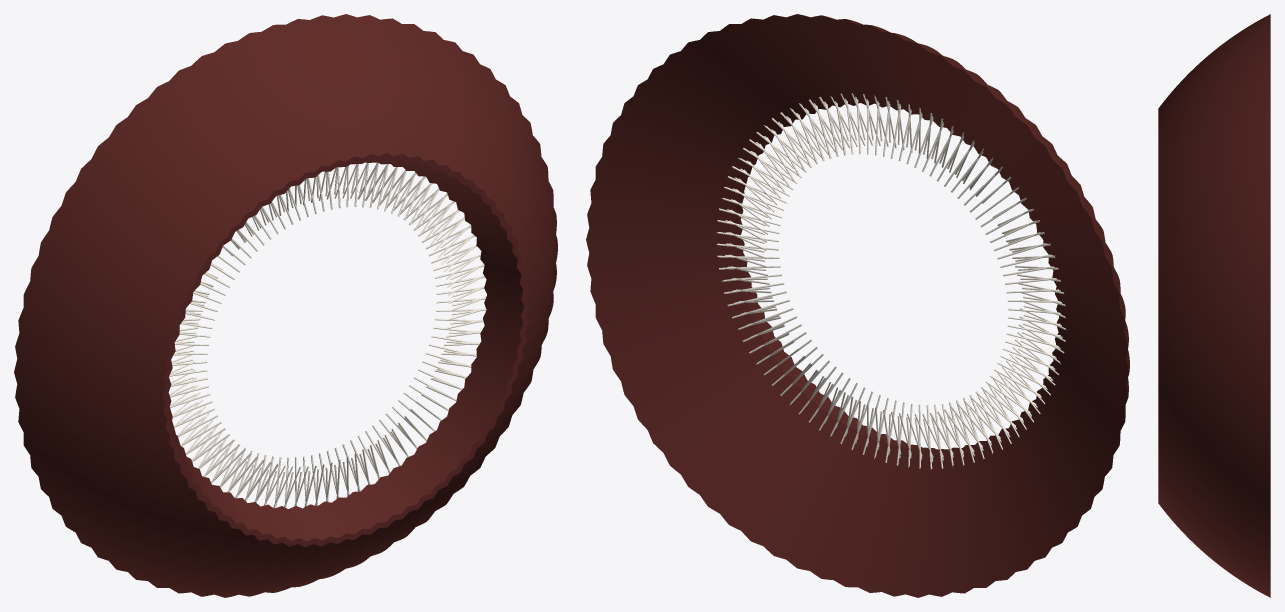
File: ciliary-body.glb
3 renders of one model, left to right at view 1: azimuth 30°, elevation 25°; view 2: azimuth 150°, elevation 25°; view 3: azimuth 270°, elevation 25°, orthographic. The views are drawn at different scales.
Parts seen in each view (by area): view 1: ciliary-body; view 2: ciliary-body; view 3: ciliary-body.
Part boxes in pixels (x1,y1,x2,y2): ciliary-body: [14, 14, 557, 597]; ciliary-body: [586, 14, 1129, 597]; ciliary-body: [1158, 14, 1270, 597].
Bounding box in the file's own units: 0.8508 × 0.85 × 0.1639.
